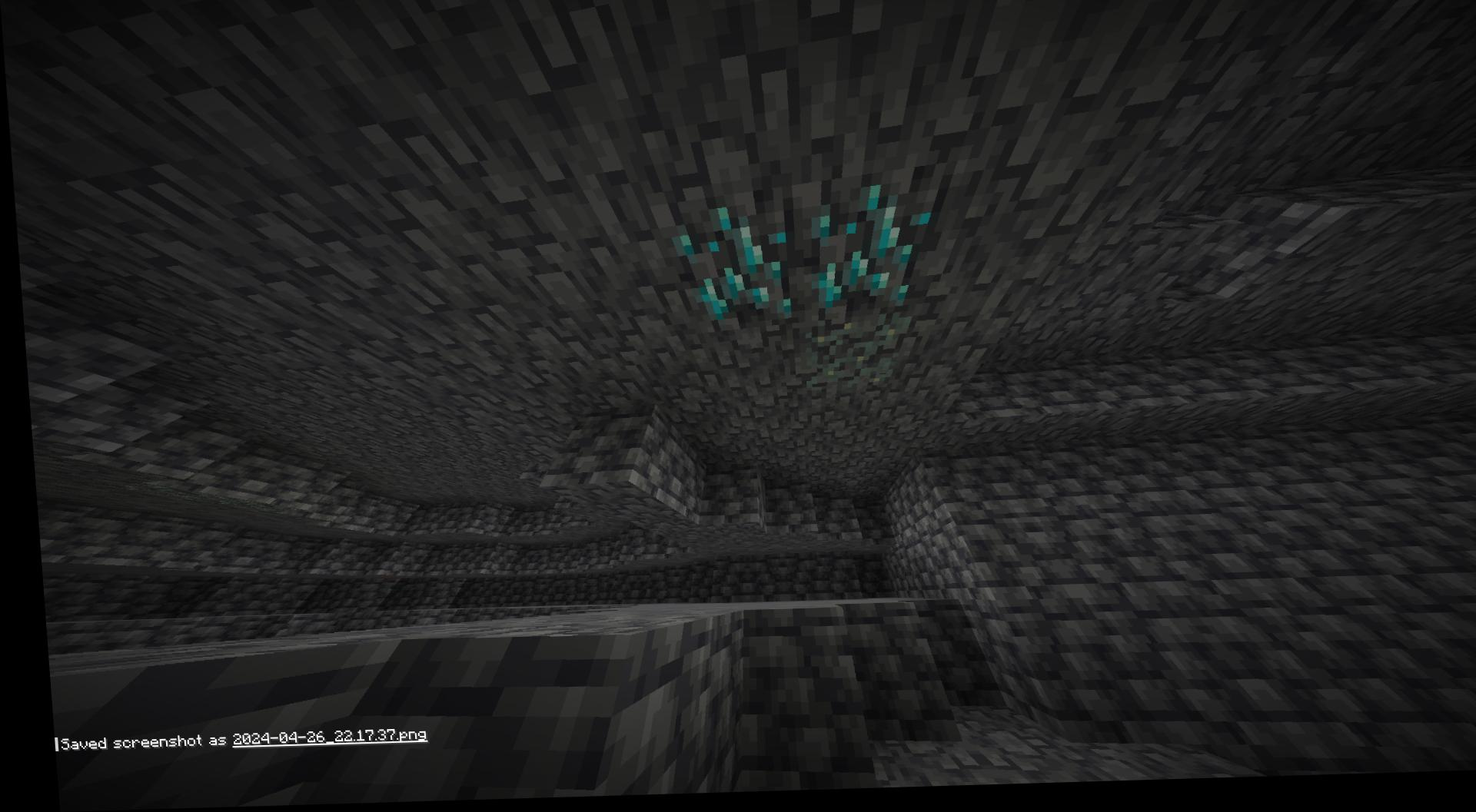diamond ore: (796, 185, 950, 328), (655, 200, 810, 341)
